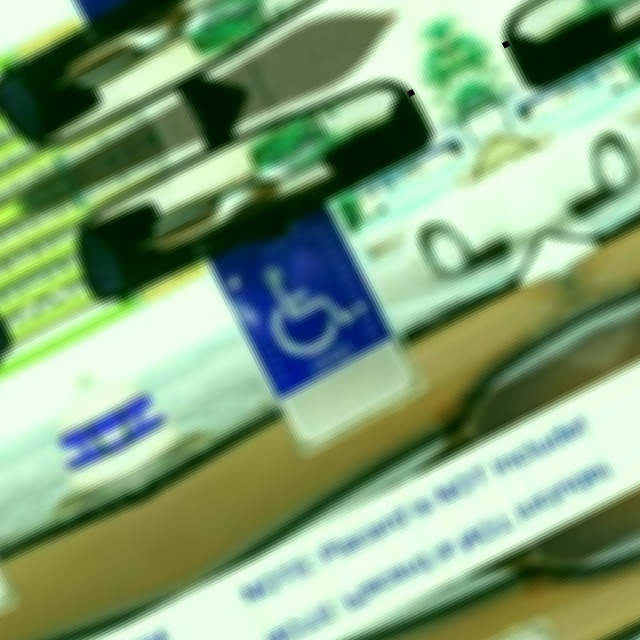ISA: (245, 242, 363, 365)
